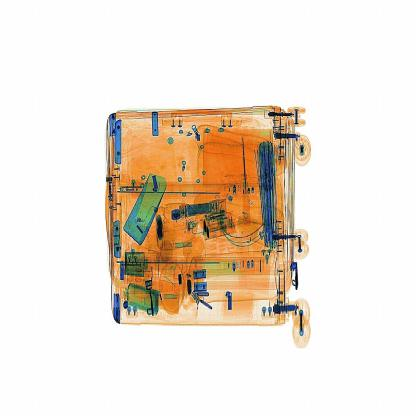wrench: (239, 130, 254, 221)
